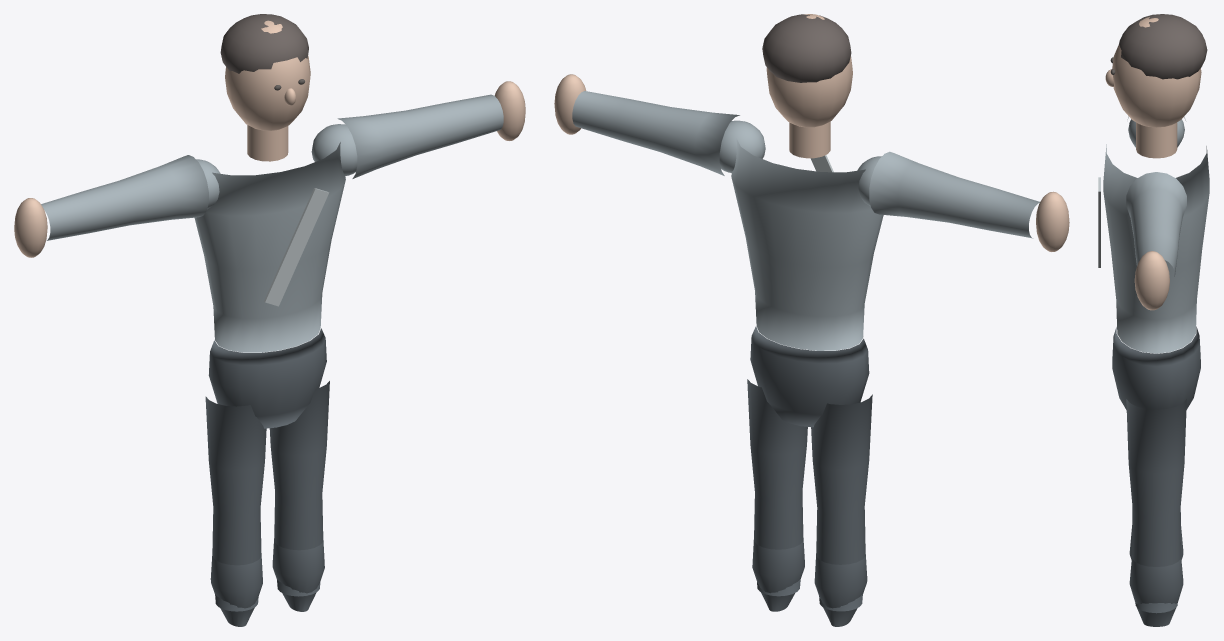
File: original-player-d.glb
3 renders of one model, left to right at view 1: azimuth 30°, elevation 25°; view 2: azimuth 150°, elevation 25°; view 3: azimuth 270°, elevation 25°, orthographic.
Visible parts, largest first — view 1: FittedTop, FittedLeg_L, FittedArm_L, FittedLeg_R, FittedPelvis, FittedArm_R, Head, Hair, PointedFoot_R, PointedFoot_L, DiagonalCloth, Hand_L (+3 smaller); view 2: FittedTop, FittedLeg_L, FittedArm_L, FittedLeg_R, FittedPelvis, FittedArm_R, Hair, Head, PointedFoot_L, PointedFoot_R, Hand_L, SoftShoulder_R (+2 smaller); view 3: FittedTop, FittedLeg_R, FittedPelvis, Hair, FittedArm_R, Head, PointedFoot_R, Hand_R, Neck, SoftShoulder_L, DiagonalCloth.
Part boxes in pixels (x1,y1,x2,y2): FittedTop: [194, 142, 345, 352]; FittedLeg_L: [205, 396, 266, 611]; FittedArm_L: [41, 155, 208, 240]; FittedLeg_R: [269, 381, 329, 596]; FittedPelvis: [208, 328, 326, 428]; FittedArm_R: [337, 94, 503, 178]; Head: [225, 20, 310, 130]; Hair: [220, 14, 308, 73]; PointedFoot_R: [272, 538, 324, 611]; PointedFoot_L: [210, 553, 262, 626]; DiagonalCloth: [264, 188, 328, 306]; Hand_L: [14, 198, 47, 257]; FittedTop: [731, 138, 883, 350]; FittedLeg_L: [811, 394, 872, 611]; FittedArm_L: [869, 151, 1039, 238]; FittedLeg_R: [747, 379, 807, 596]; FittedPelvis: [750, 326, 869, 427]; FittedArm_R: [572, 91, 739, 175]; Hair: [762, 14, 851, 82]; Head: [766, 14, 852, 127]; PointedFoot_L: [814, 553, 867, 626]; PointedFoot_R: [752, 538, 804, 611]; Hand_L: [1036, 191, 1069, 251]; SoftShoulder_R: [719, 120, 765, 172]; FittedTop: [1103, 144, 1209, 353]; FittedLeg_R: [1126, 399, 1186, 613]; FittedPelvis: [1112, 326, 1200, 410]; Hair: [1119, 14, 1207, 79]; FittedArm_R: [1126, 172, 1186, 276]; Head: [1112, 17, 1201, 127]; PointedFoot_R: [1129, 555, 1183, 626]; Hand_R: [1134, 251, 1169, 310]; Neck: [1136, 122, 1177, 158]; SoftShoulder_L: [1128, 119, 1184, 147]; DiagonalCloth: [1098, 177, 1100, 267].
Size of the model in its own units: 2.46 by 2.75 by 0.471.
